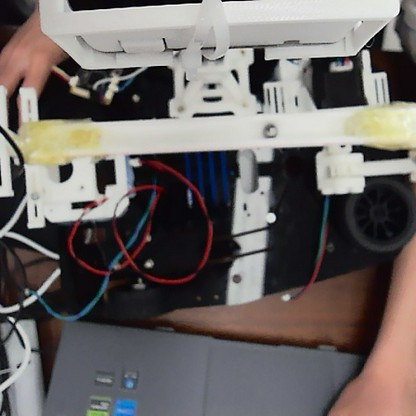ironball: (259, 120, 278, 140)
